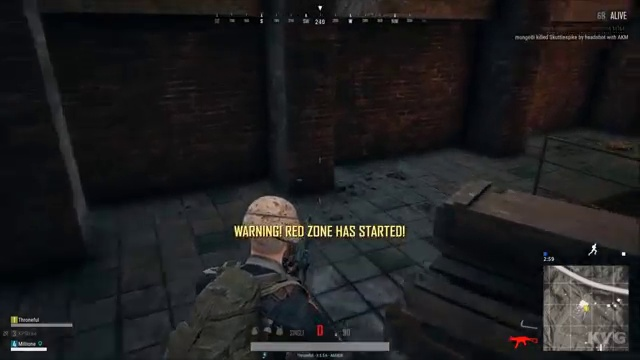Player: (184, 187, 349, 321)
